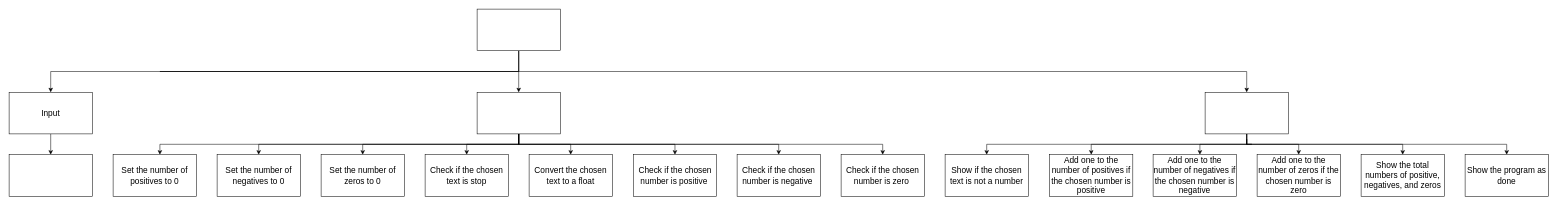
The diagram is 1557 pixels wide and 205 high, and some of its shapes have lost their labels. Each missing label, with the centre of its shape:
Counting Numbers: pixel 518 30
Output: pixel 1246 113
Process: pixel 518 113
Set text: pixel 50 175
